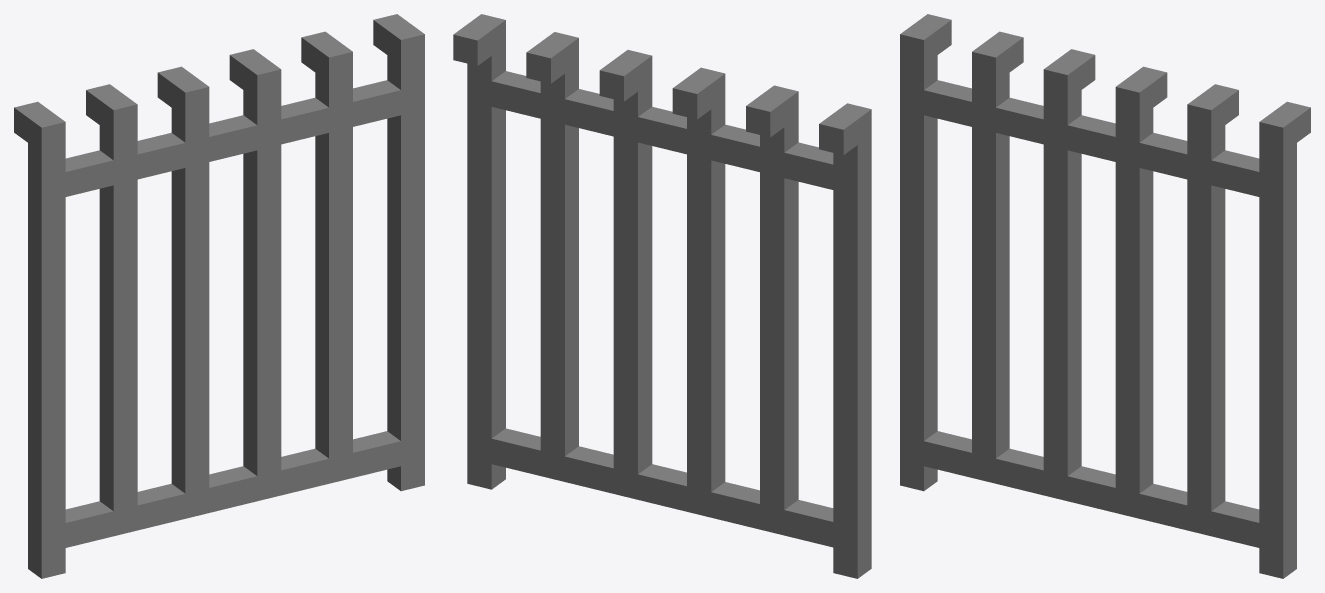
Rendered from obj_fence2.fbx.
The picture shows the model from 3 angles, left to right: view 1: azimuth 30°, elevation 25°; view 2: azimuth 150°, elevation 25°; view 3: azimuth 330°, elevation 25°; orthographic projection.
Visible parts, largest first — view 1: obj_fence2; view 2: obj_fence2; view 3: obj_fence2.
Boxes of the visible parts, x1,y1,x2,y2 form: obj_fence2: (14,14,424,578); obj_fence2: (453,14,871,578); obj_fence2: (900,14,1310,578).
Bounding box in the file's own units: 1.6 × 0.2 × 1.8.
Materials: 1 (1 with a texture image).
